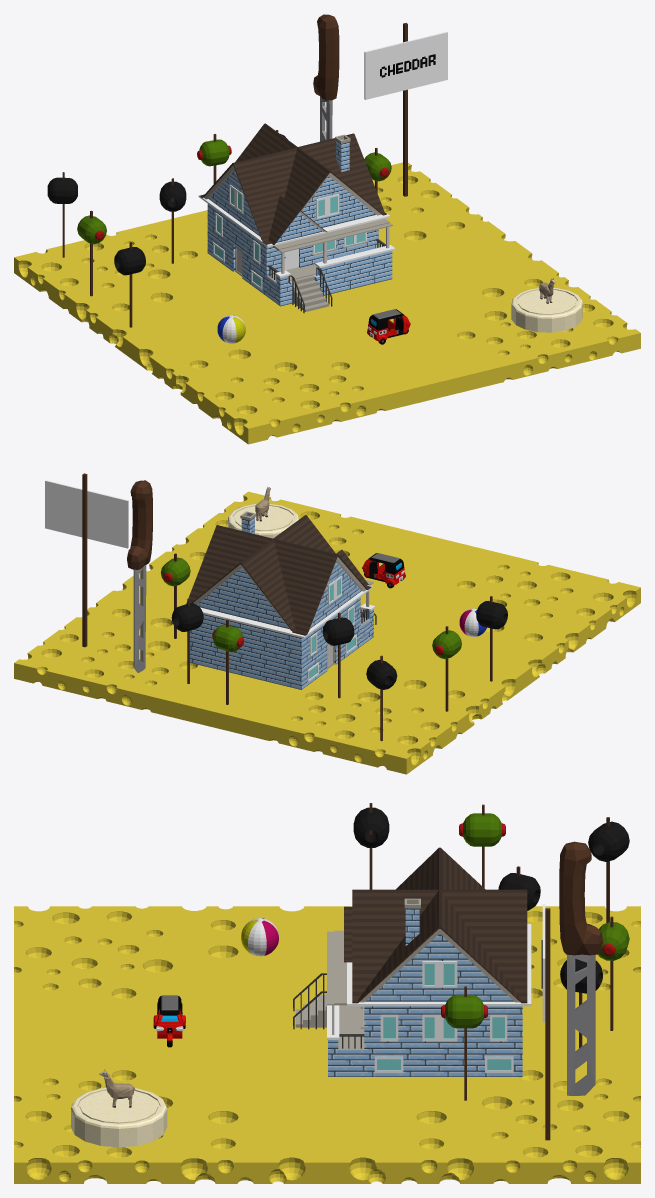
3 views of the same model, one above another, from view 1: azimuth 30°, elevation 25°; view 2: azimuth 150°, elevation 25°; view 3: azimuth 270°, elevation 25° (orthographic). The views are drawn at different scales.
Visible parts, largest first — view 1: Cube.022, Cube.547, Cube.023, Cylinder.016, Cube.024, VEHICLES_TUC_TUC, Sphere.017, Sphere.016, Sphere.020, Sphere.018, Sphere.022, OBJRANDOM_BEACHBALL (+1 smaller); view 2: Cube.022, Cube.547, Cube.023, Cube.024, Cylinder.016, VEHICLES_TUC_TUC, Sphere.017, Sphere.020, Sphere.021, Sphere.016, Sphere.018, Sphere.022 (+2 smaller); view 3: Cube.022, Cube.547, Cube.024, Cylinder.016, Cube.023, Sphere.019, Sphere.016, Sphere.018, Sphere.017, VEHICLES_TUC_TUC, Sphere.022, OBJRANDOM_BEACHBALL (+3 smaller).
Part boxes in pixels (<box>): Cube.022: <box>14,162,640,444</box>; Cube.547: <box>198,123,395,313</box>; Cube.023: <box>364,23,447,196</box>; Cylinder.016: <box>511,288,582,332</box>; Cube.024: <box>313,14,339,141</box>; VEHICLES_TUC_TUC: <box>367,309,410,344</box>; Sphere.017: <box>114,242,145,327</box>; Sphere.016: <box>47,172,77,257</box>; Sphere.020: <box>159,178,186,263</box>; Sphere.018: <box>77,210,106,296</box>; Sphere.022: <box>197,134,231,183</box>; OBJRANDOM_BEACHBALL: <box>217,315,245,343</box>; Cube.022: <box>14,491,640,774</box>; Cube.547: <box>185,511,376,689</box>; Cube.023: <box>45,473,128,647</box>; Cube.024: <box>127,480,152,672</box>; Cylinder.016: <box>228,503,298,538</box>; VEHICLES_TUC_TUC: <box>362,553,405,588</box>; Sphere.017: <box>476,596,507,681</box>; Sphere.020: <box>322,612,354,698</box>; Sphere.021: <box>171,598,203,683</box>; Sphere.016: <box>366,655,397,741</box>; Sphere.018: <box>432,626,461,711</box>; Sphere.022: <box>212,619,244,704</box>; Cube.022: <box>14,906,640,1183</box>; Cube.547: <box>293,847,531,1076</box>; Cube.024: <box>559,841,602,1095</box>; Cylinder.016: <box>71,1088,167,1147</box>; Cube.023: <box>541,904,550,1140</box>; Sphere.019: <box>441,986,487,1100</box>; Sphere.016: <box>588,817,629,922</box>; Sphere.018: <box>459,804,505,887</box>; Sphere.017: <box>353,803,389,889</box>; VEHICLES_TUC_TUC: <box>153,995,185,1047</box>; Sphere.022: <box>598,916,629,1030</box>; OBJRANDOM_BEACHBALL: <box>241,918,278,956</box>.
Bounding box in the file's own units: 3917 × 2010 × 4000.
Materials: 36 (4 with a texture image).
